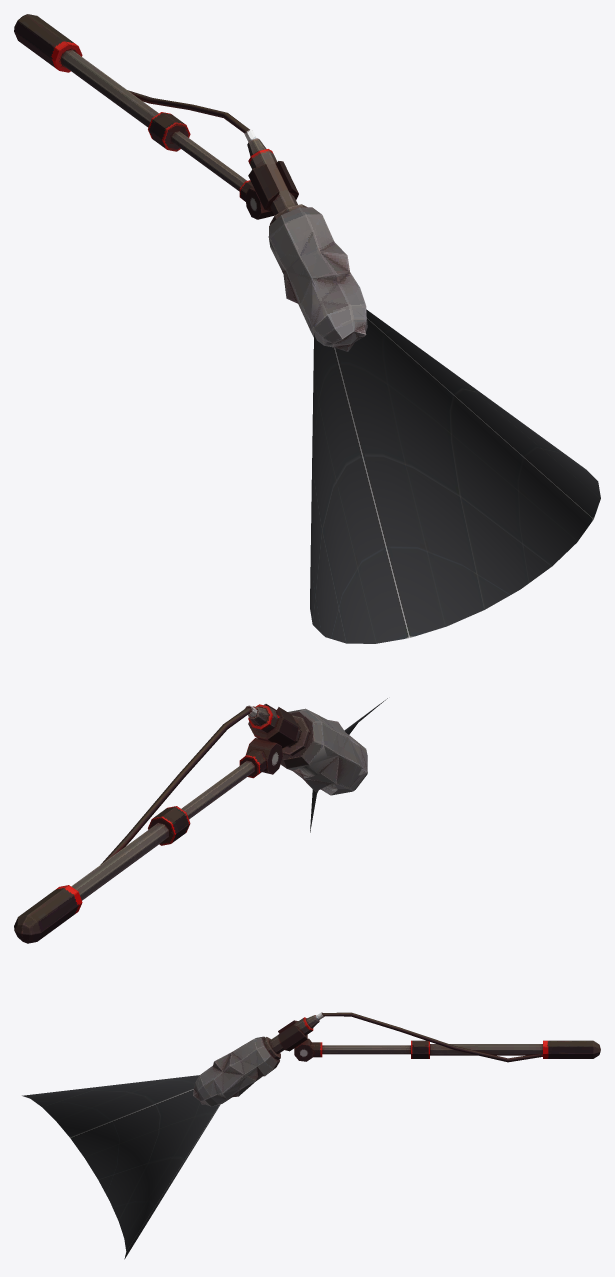
The model's file is item_film_boom_mic.glb.
3 renders of one model, top to bottom at view 1: azimuth 30°, elevation 25°; view 2: azimuth 150°, elevation 25°; view 3: azimuth 270°, elevation 25°, orthographic. The views are drawn at different scales.
Visible parts, largest first — view 1: filmgear_boom_cone, BoomMic; view 2: BoomMic; view 3: filmgear_boom_cone, BoomMic.
Boxes of the visible parts, <box> form: filmgear_boom_cone: <box>310,309,600,643</box>; BoomMic: <box>14,14,367,351</box>; BoomMic: <box>14,704,367,943</box>; filmgear_boom_cone: <box>22,1075,220,1259</box>; BoomMic: <box>193,1012,600,1106</box>.
Bounding box in the file's own units: 0.932 × 1.26 × 2.8.
Materials: 2 (2 with a texture image).
